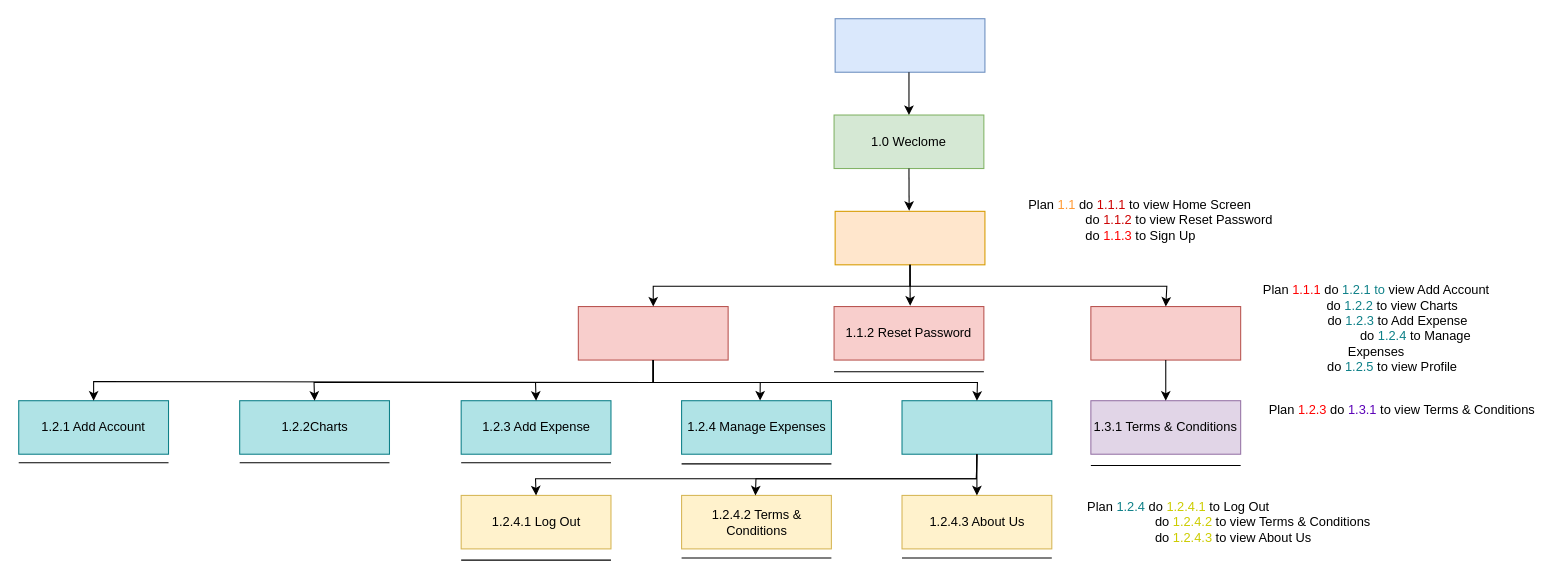
Some shapes in this 1560 by 580 pixel diagram are drawn without their labels. The centre of each missing label's shape, as x and y in pixels:
"0.0 Run App" belongs at point 909,45.
"1.1 Log In" belongs at point 909,237.
"1.1.1 Home Screen" belongs at point 652,332.
"1.1.3 Sign up" belongs at point 1165,332.
"1.2.5 Profile" belongs at point 976,427.
